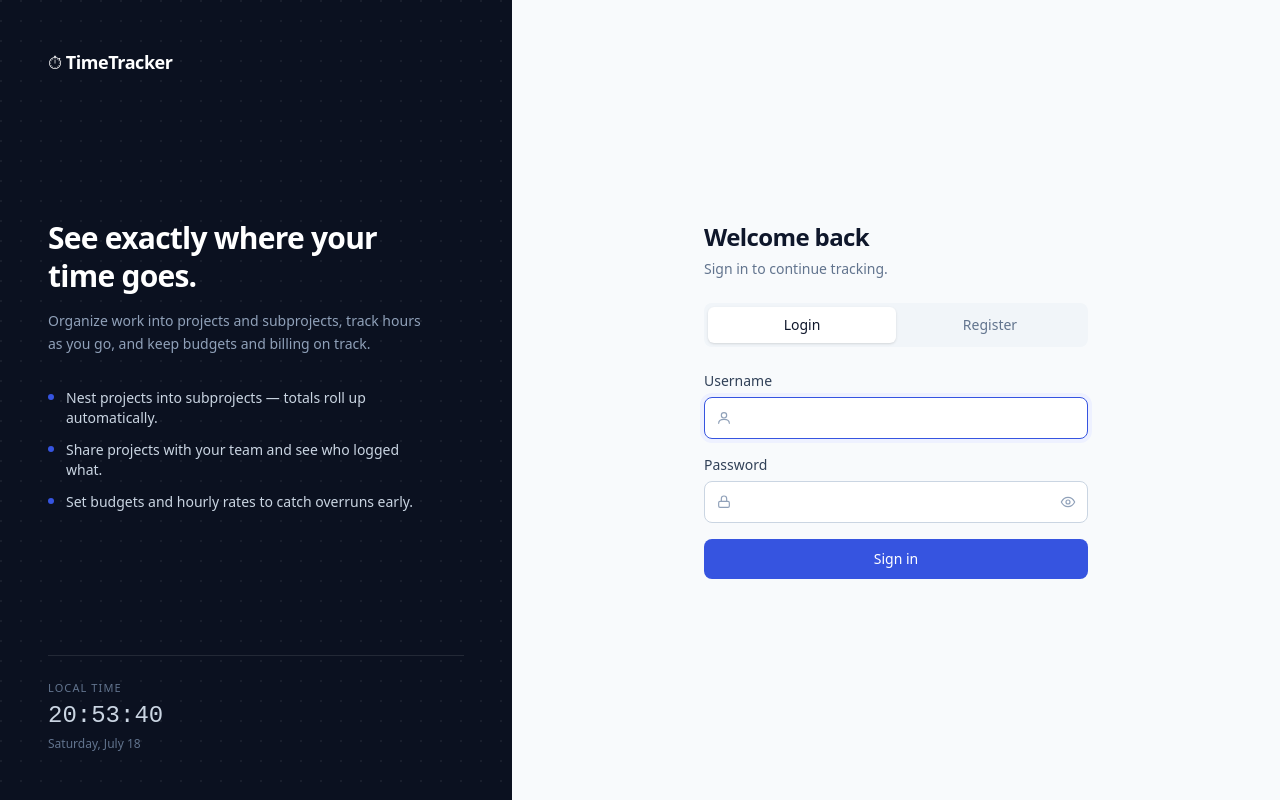
Test: LoginPage › switches to register tab and shows email field
Click the tab with test id "tab-register" at (990, 325), box [896,307,1084,343]
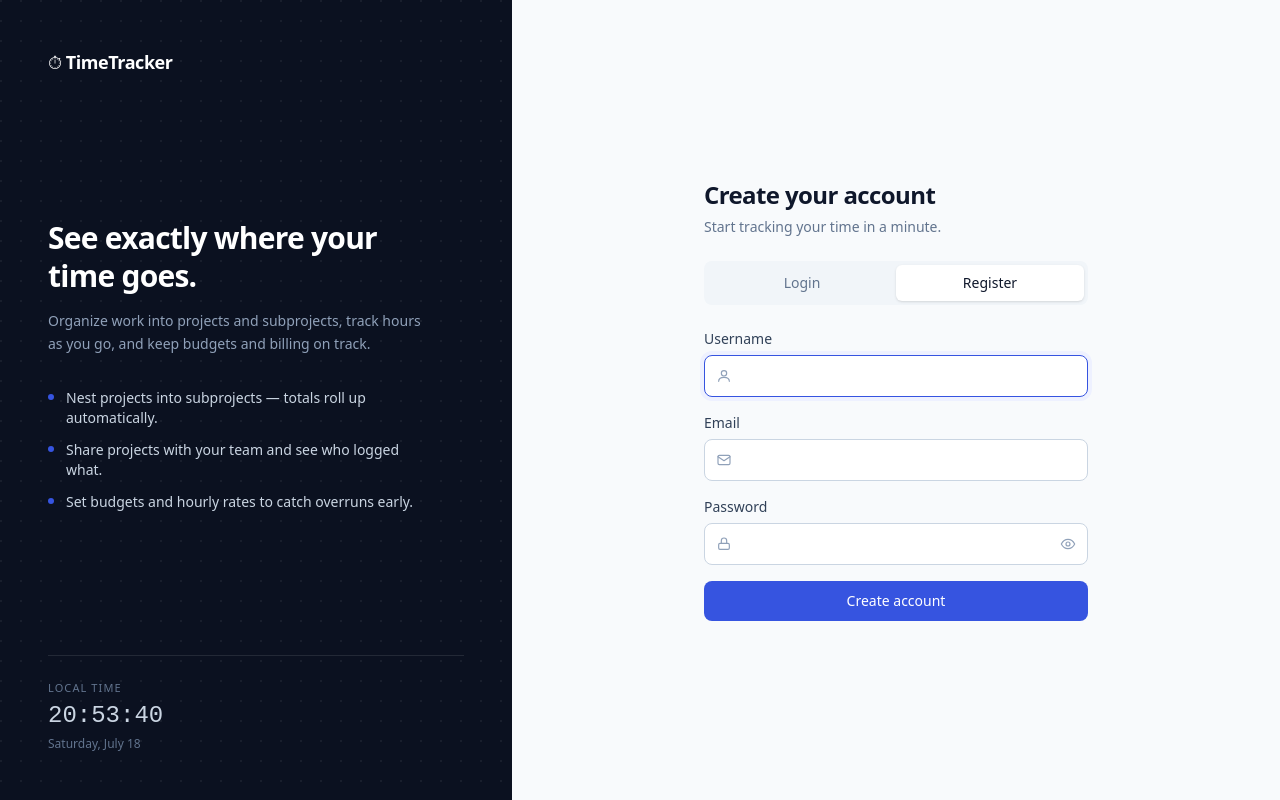
Check: the field with test id "input-email" is shown, box [704,439,1088,481]
